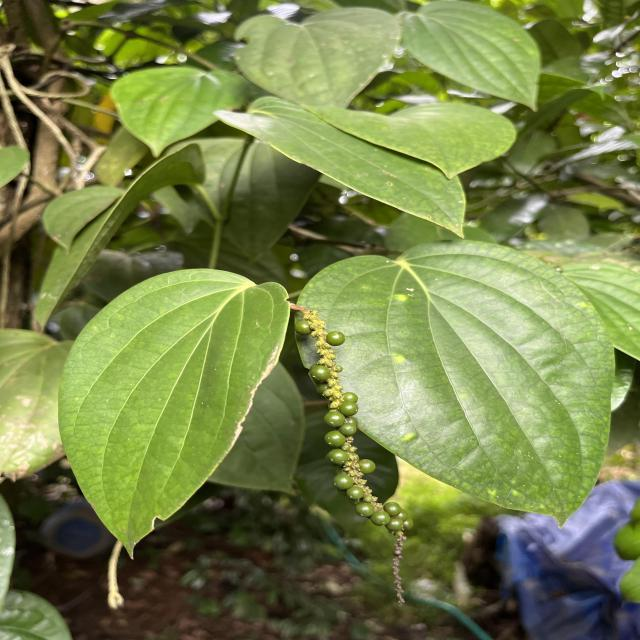Piper nigrum: (292, 238, 616, 530), (55, 266, 292, 564)
